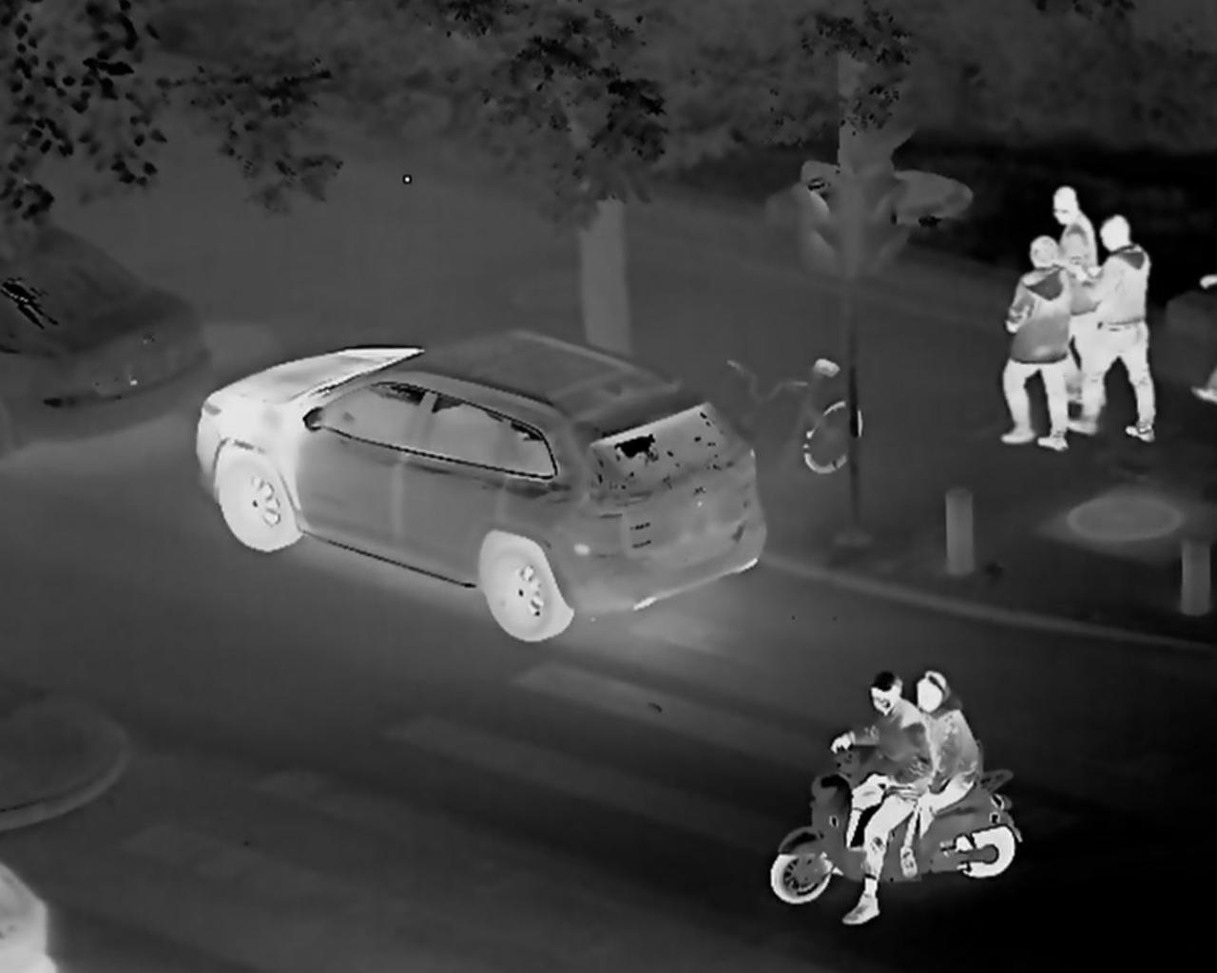person: (823, 672, 924, 922), (1082, 214, 1161, 448), (897, 670, 985, 876), (998, 234, 1072, 450), (1047, 188, 1096, 401)
